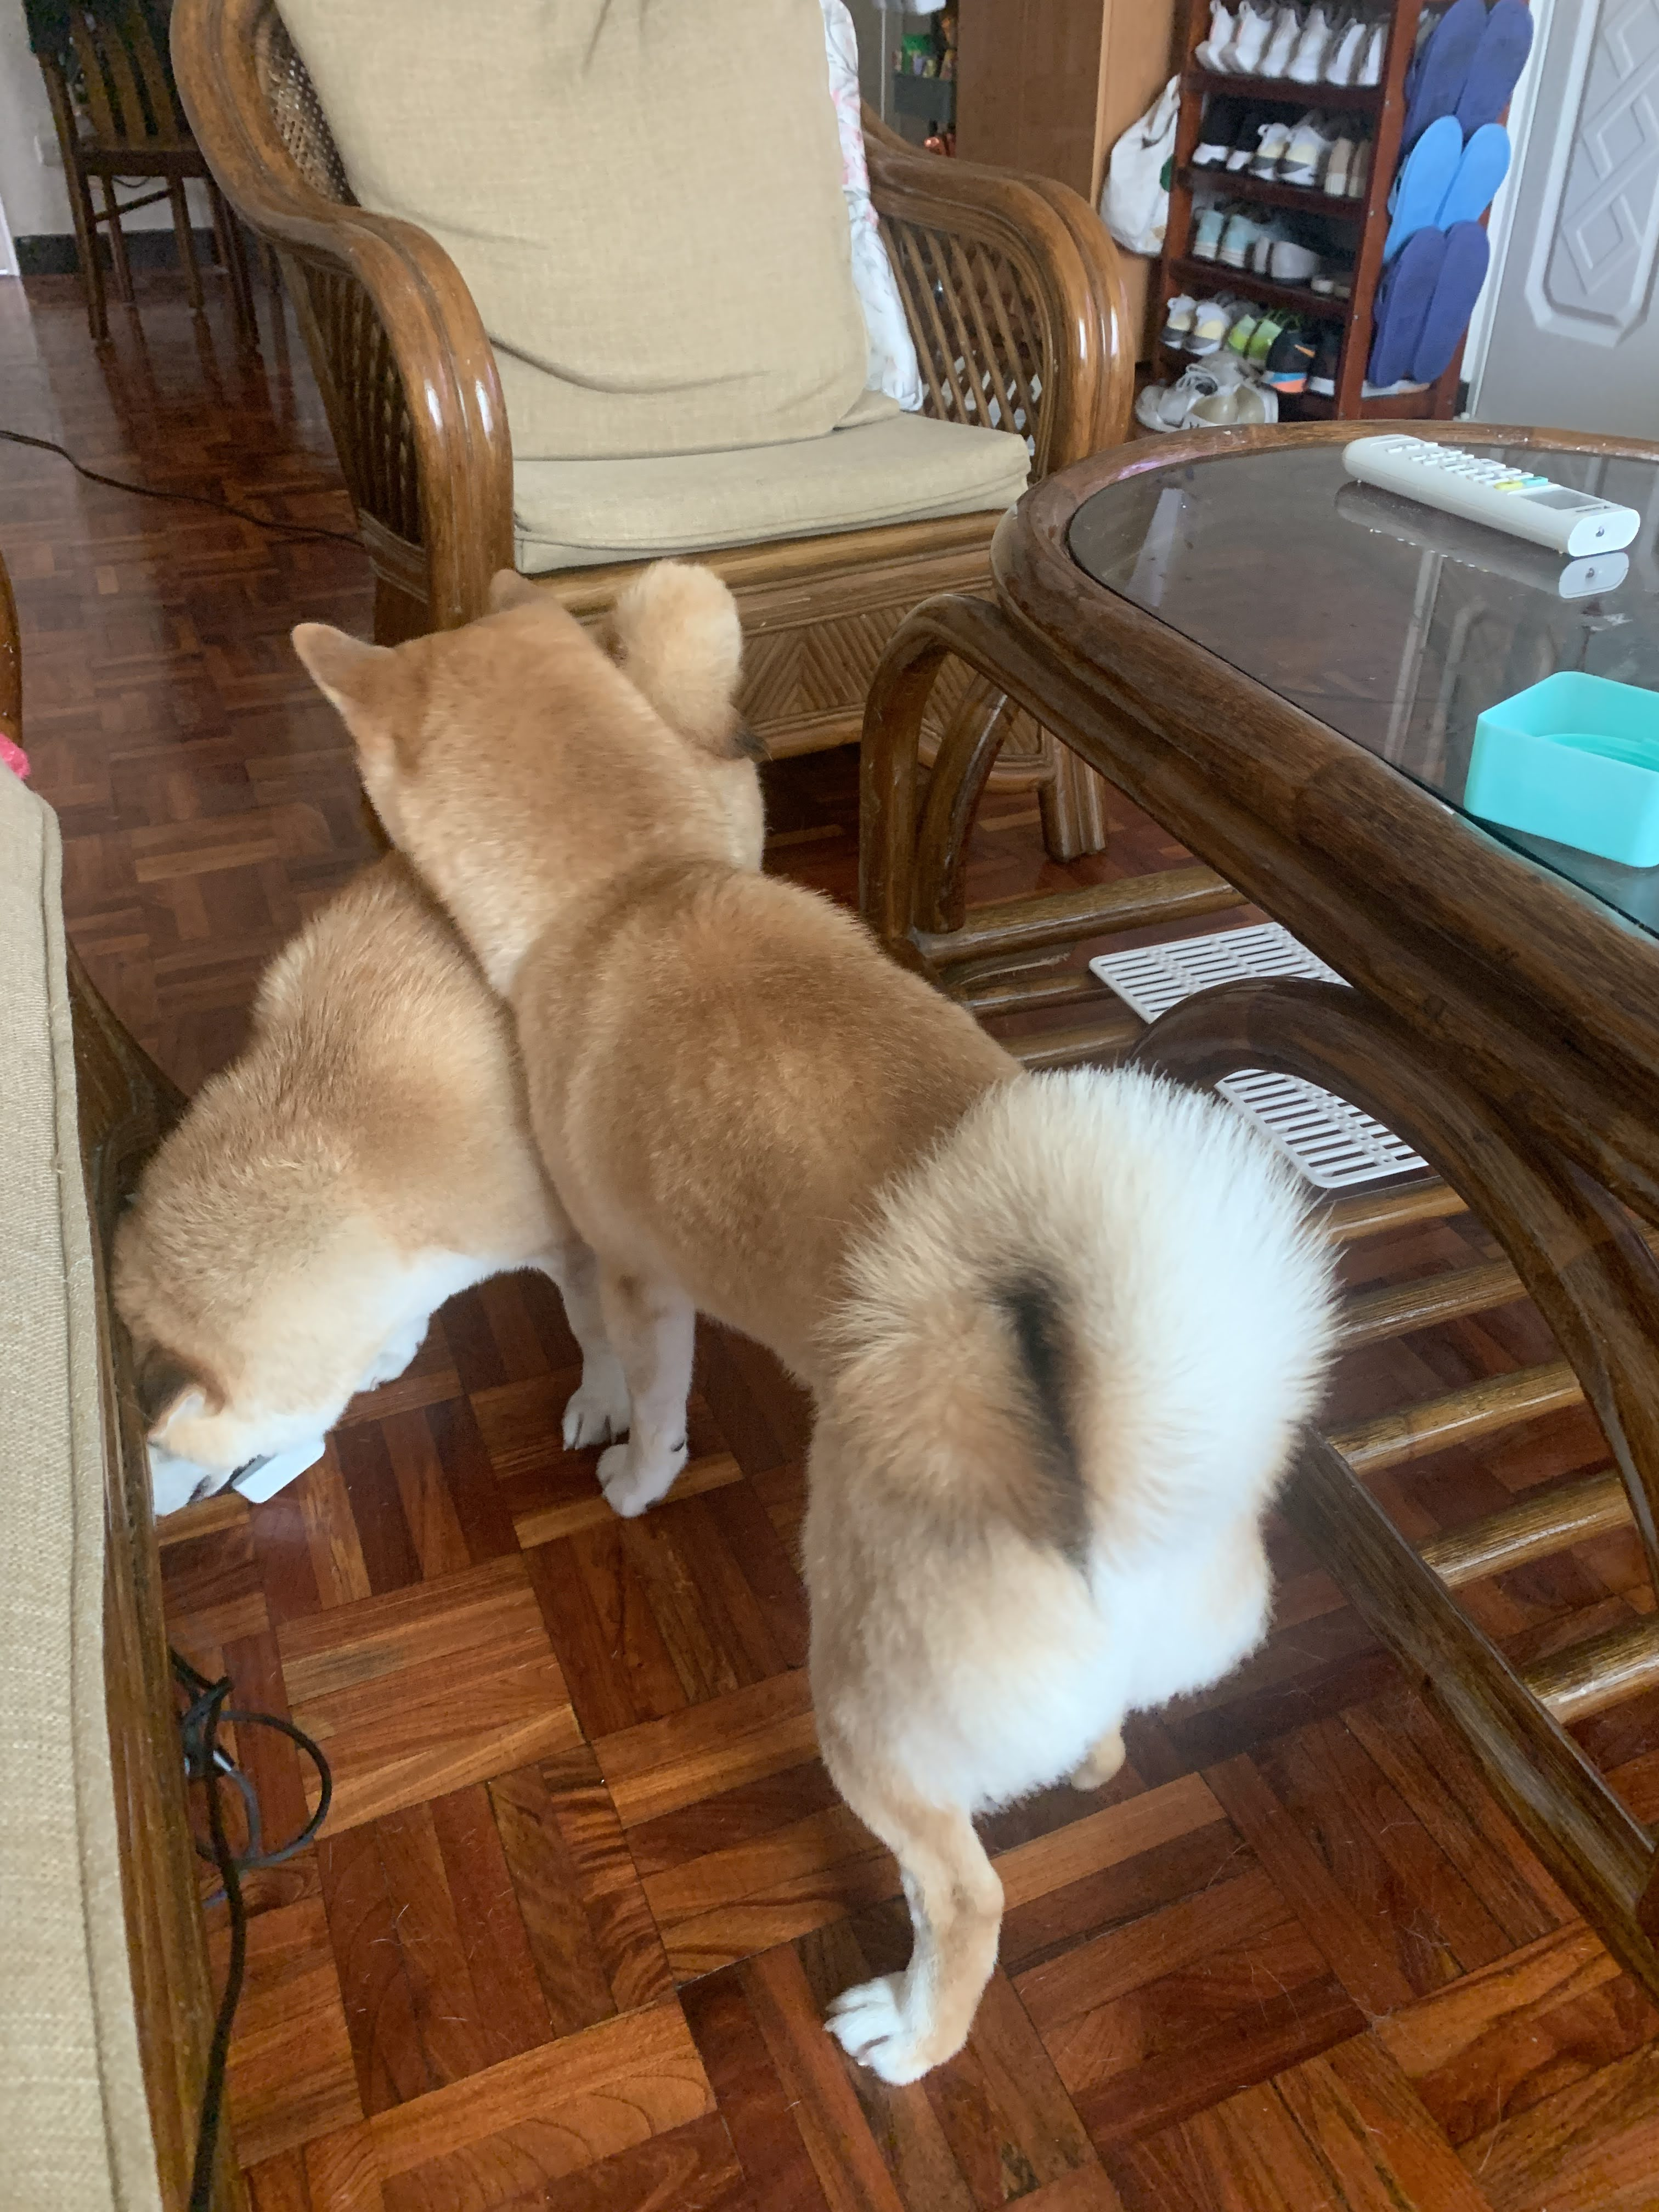Quarrel: (122, 604, 1345, 2043)
